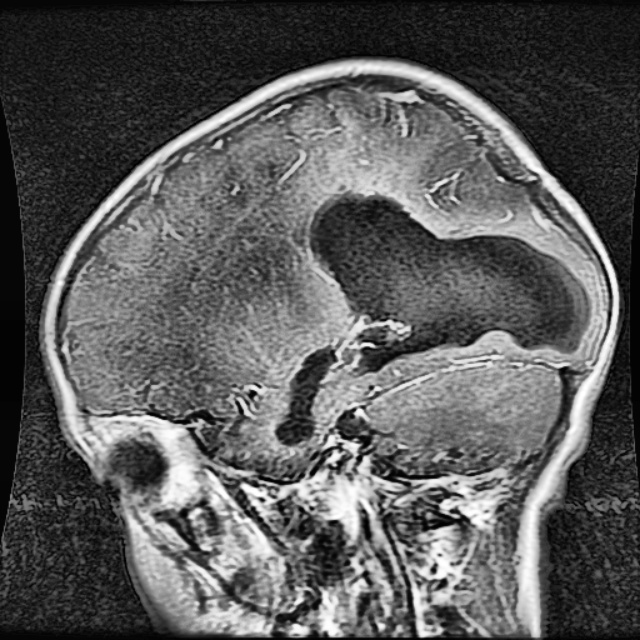Meningioma: (278, 190, 587, 447)
